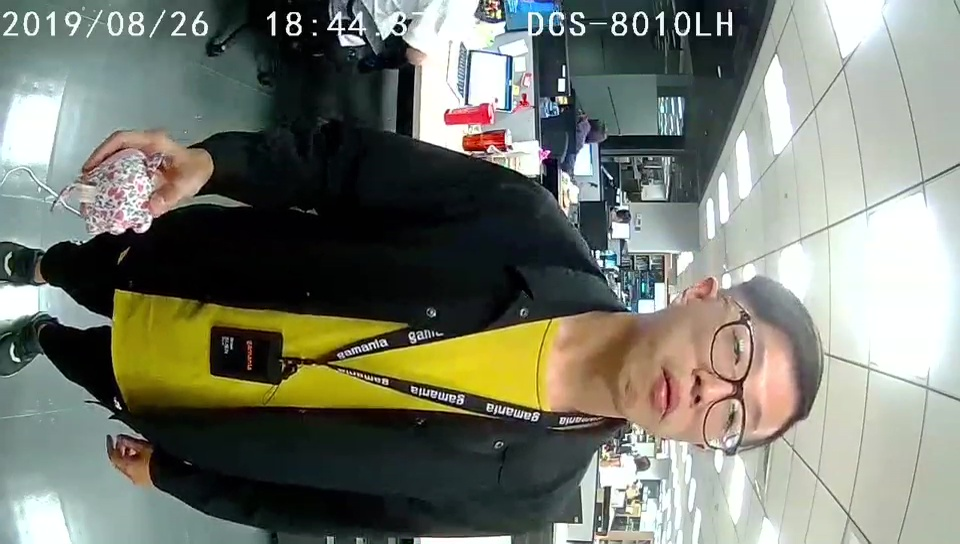pig: (78, 146, 166, 236)
